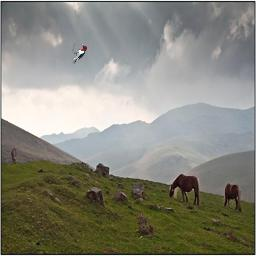Woodpecker: (71, 43, 88, 65)
